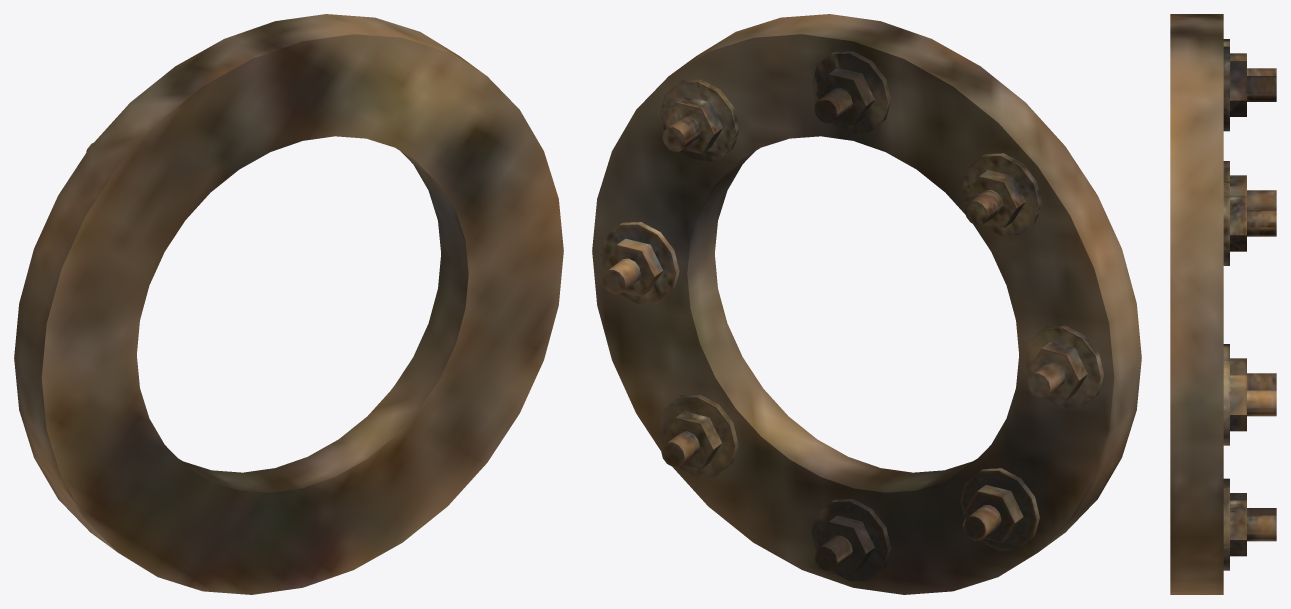
File: pipe-flange.glb
3 views of the same model, side by side, from view 1: azimuth 30°, elevation 25°; view 2: azimuth 150°, elevation 25°; view 3: azimuth 270°, elevation 25° (orthographic). The views are drawn at different scales.
Parts seen in each view (by area): view 1: pipe-flange; view 2: pipe-flange; view 3: pipe-flange.
Part boxes in pixels (x1,y1,x2,y2): pipe-flange: (14,14,563,594); pipe-flange: (592,14,1141,594); pipe-flange: (1170,14,1276,594).
Bounding box in the file's own units: 0.2811 × 0.2811 × 0.0513.
Materials: 1 (1 with a texture image).
